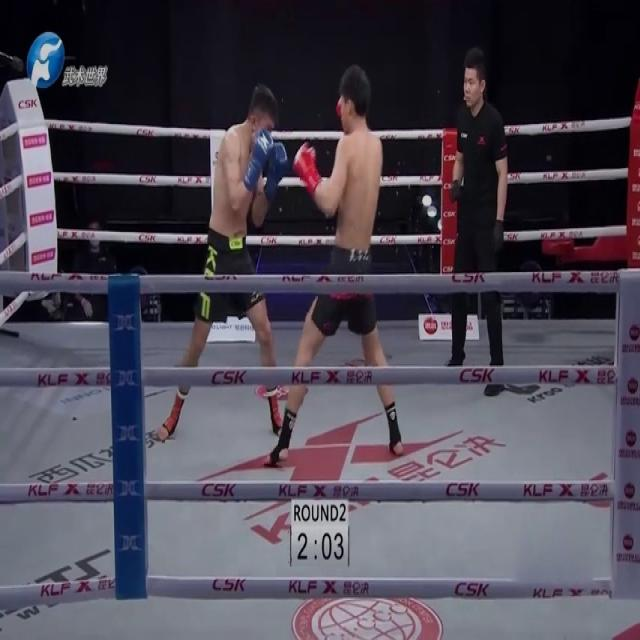fight: (158, 60, 410, 481)
non-fight: (440, 40, 510, 392)
